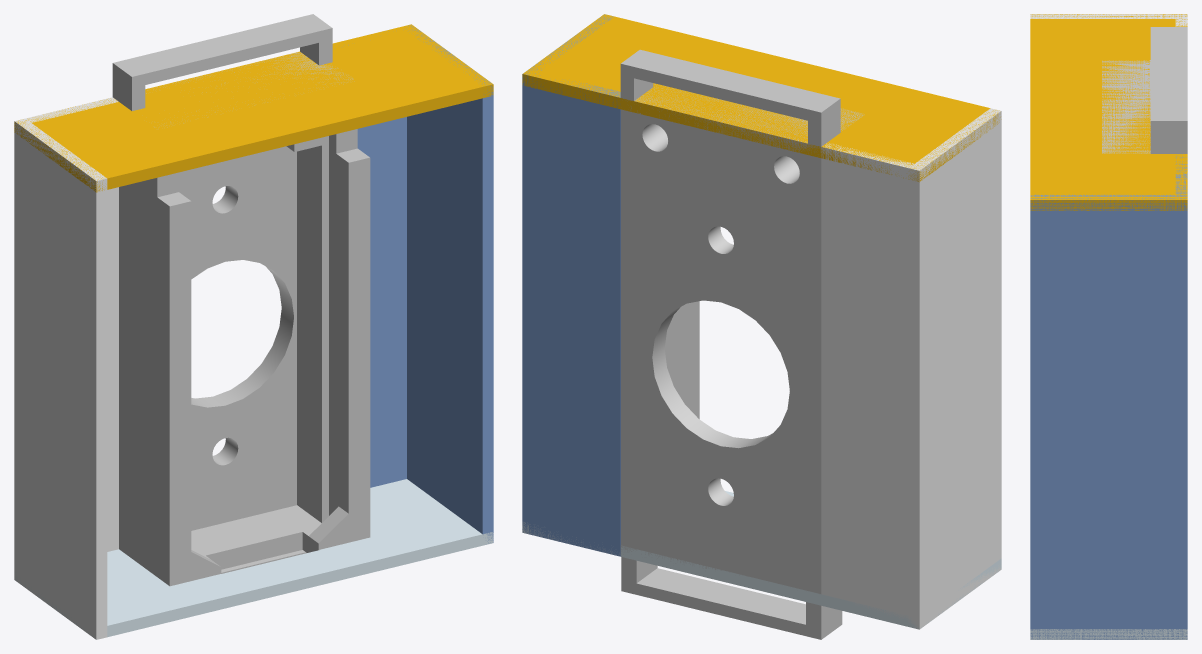
Rendered from final-proj.gltf.
3 renders of one model, left to right at view 1: azimuth 30°, elevation 25°; view 2: azimuth 150°, elevation 25°; view 3: azimuth 270°, elevation 25°, orthographic. The views are drawn at different scales.
Visible parts, largest first — view 1: Part 1, Part 5, Part 7, Part 4, Part 6, Part 2, Part 3; view 2: Part 1, Part 5, Part 3, Part 2, Part 7, Part 4, Part 6; view 3: Part 4, Part 7, Part 1, Part 6, Part 5, Part 2.
Boxes of the visible parts, left/top/right/bottom form: Part 1: left=112, top=14, right=370, bottom=586; Part 5: left=14, top=118, right=107, bottom=639; Part 7: left=14, top=24, right=493, bottom=192; Part 4: left=405, top=25, right=493, bottom=544; Part 6: left=15, top=479, right=493, bottom=639; Part 2: left=348, top=31, right=406, bottom=487; Part 3: left=25, top=97, right=118, bottom=551; Part 1: left=620, top=49, right=864, bottom=639; Part 5: left=908, top=108, right=1001, bottom=629; Part 3: left=821, top=143, right=913, bottom=621; Part 2: left=533, top=75, right=620, bottom=556; Part 7: left=522, top=14, right=1001, bottom=182; Part 4: left=522, top=14, right=613, bottom=535; Part 6: left=522, top=491, right=1001, bottom=628; Part 4: left=1030, top=194, right=1187, bottom=639; Part 7: left=1030, top=14, right=1187, bottom=210; Part 1: left=1102, top=27, right=1187, bottom=153; Part 6: left=1030, top=629, right=1187, bottom=639; Part 5: left=1030, top=14, right=1187, bottom=18; Part 2: left=1175, top=154, right=1187, bottom=194.
Bounding box in the file's own units: 0.0462 × 0.0586 × 0.0165.
